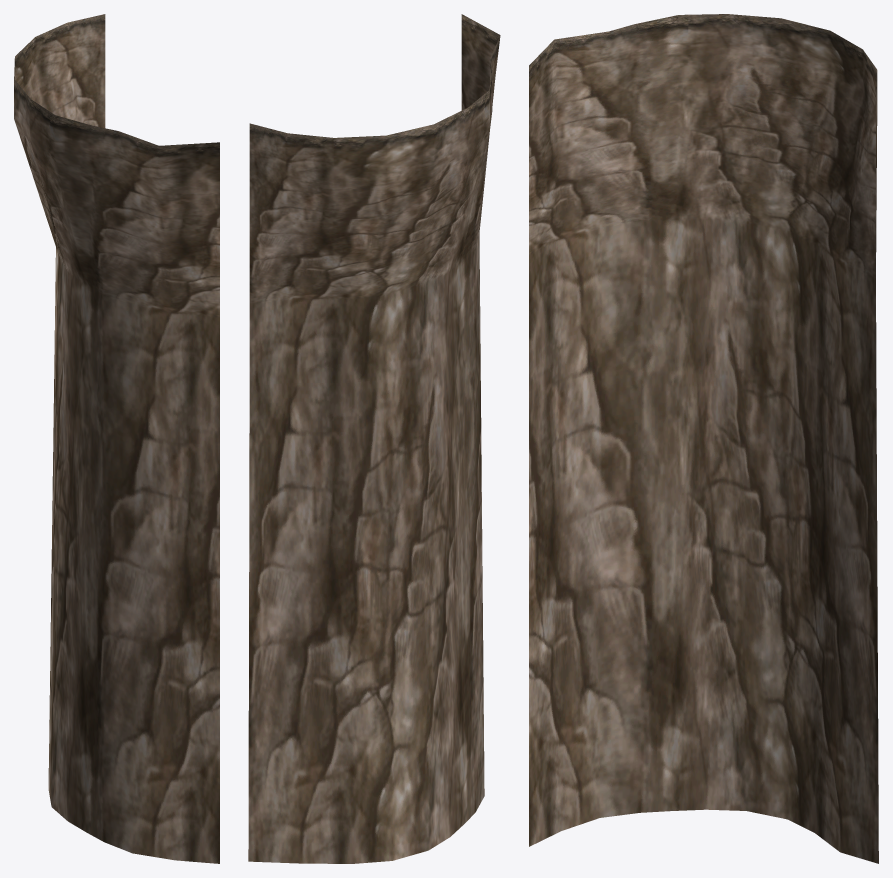
The model's file is OVERHILL_A_01_LINE31.fbx.
3 views of the same model, side by side, from view 1: azimuth 30°, elevation 25°; view 2: azimuth 150°, elevation 25°; view 3: azimuth 270°, elevation 25° (orthographic). The views are drawn at different scales.
Visible parts, largest first — view 1: OVERHILL_A_01_LINE31; view 2: OVERHILL_A_01_LINE31; view 3: OVERHILL_A_01_LINE31.
Part boxes in pixels (<box>): OVERHILL_A_01_LINE31: <box>14,14,219,863</box>; OVERHILL_A_01_LINE31: <box>248,14,500,863</box>; OVERHILL_A_01_LINE31: <box>529,14,878,863</box>.
Bounding box in the file's own units: 33490 × 161470 × 65508.
Materials: 2 (2 with a texture image).
